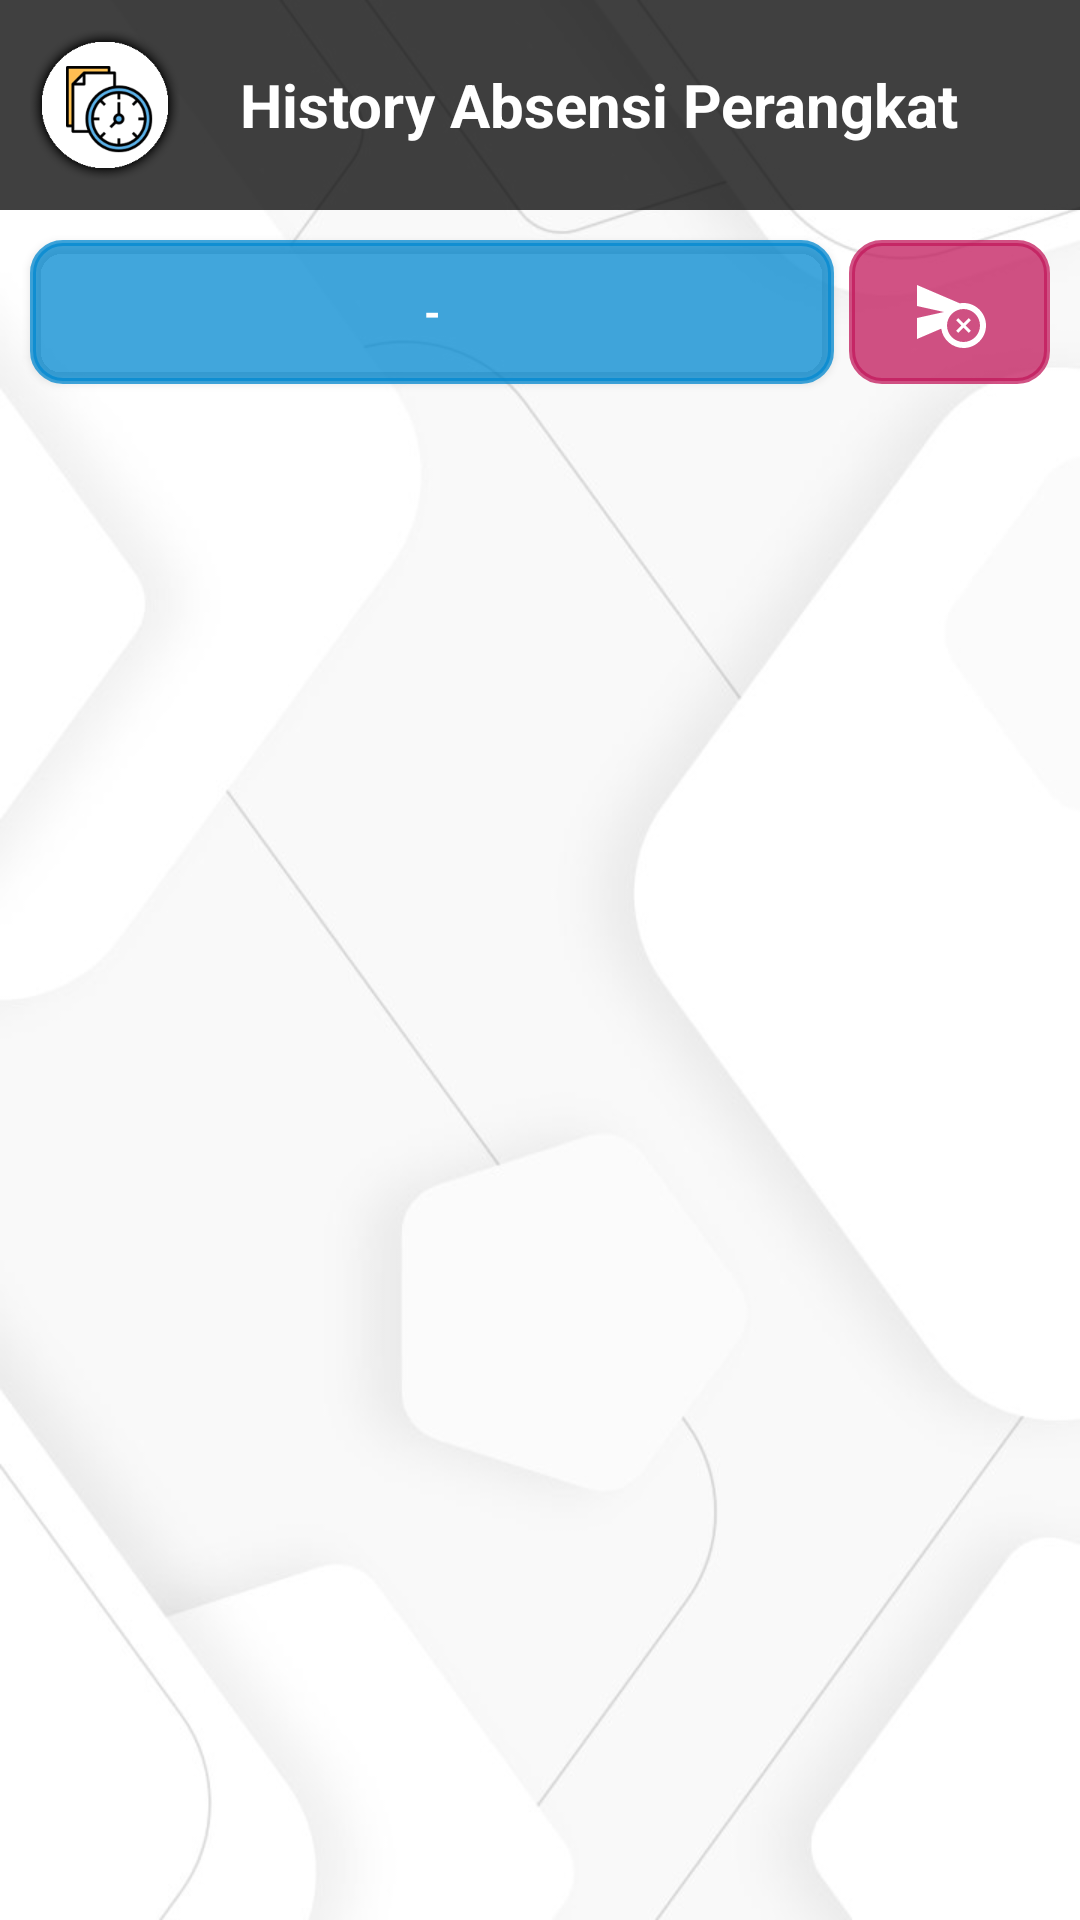

Icon click points for this 1080x1920 phone screenshot, format point (x, y):
cancel schedule send: point (949, 312)
